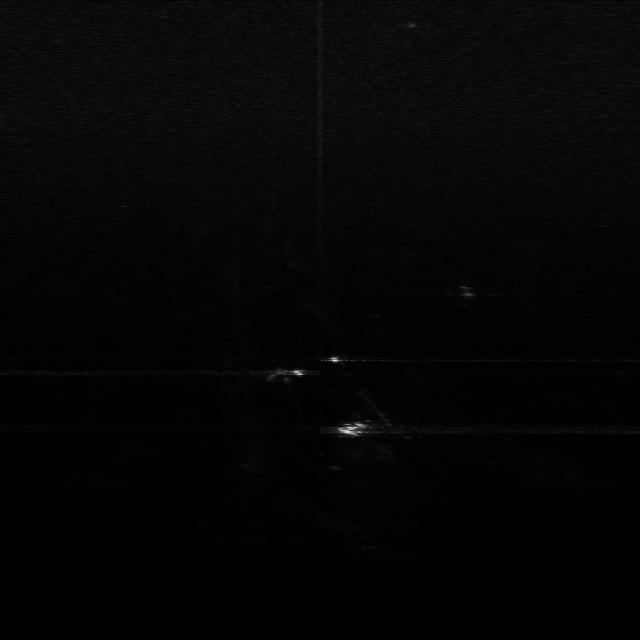rov: (329, 415, 373, 442)
